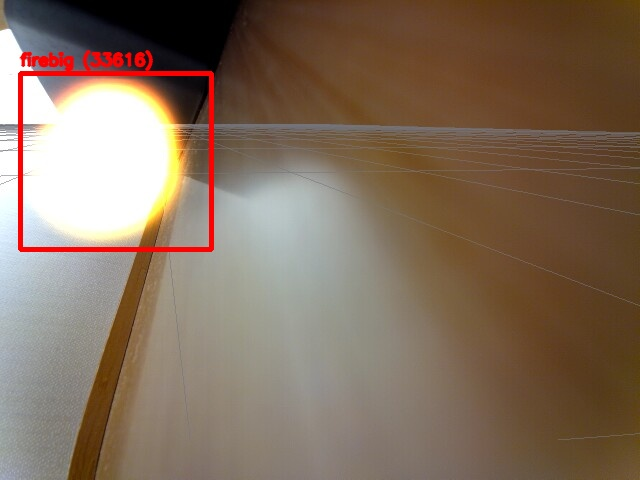firebig: (20, 73, 211, 249)
